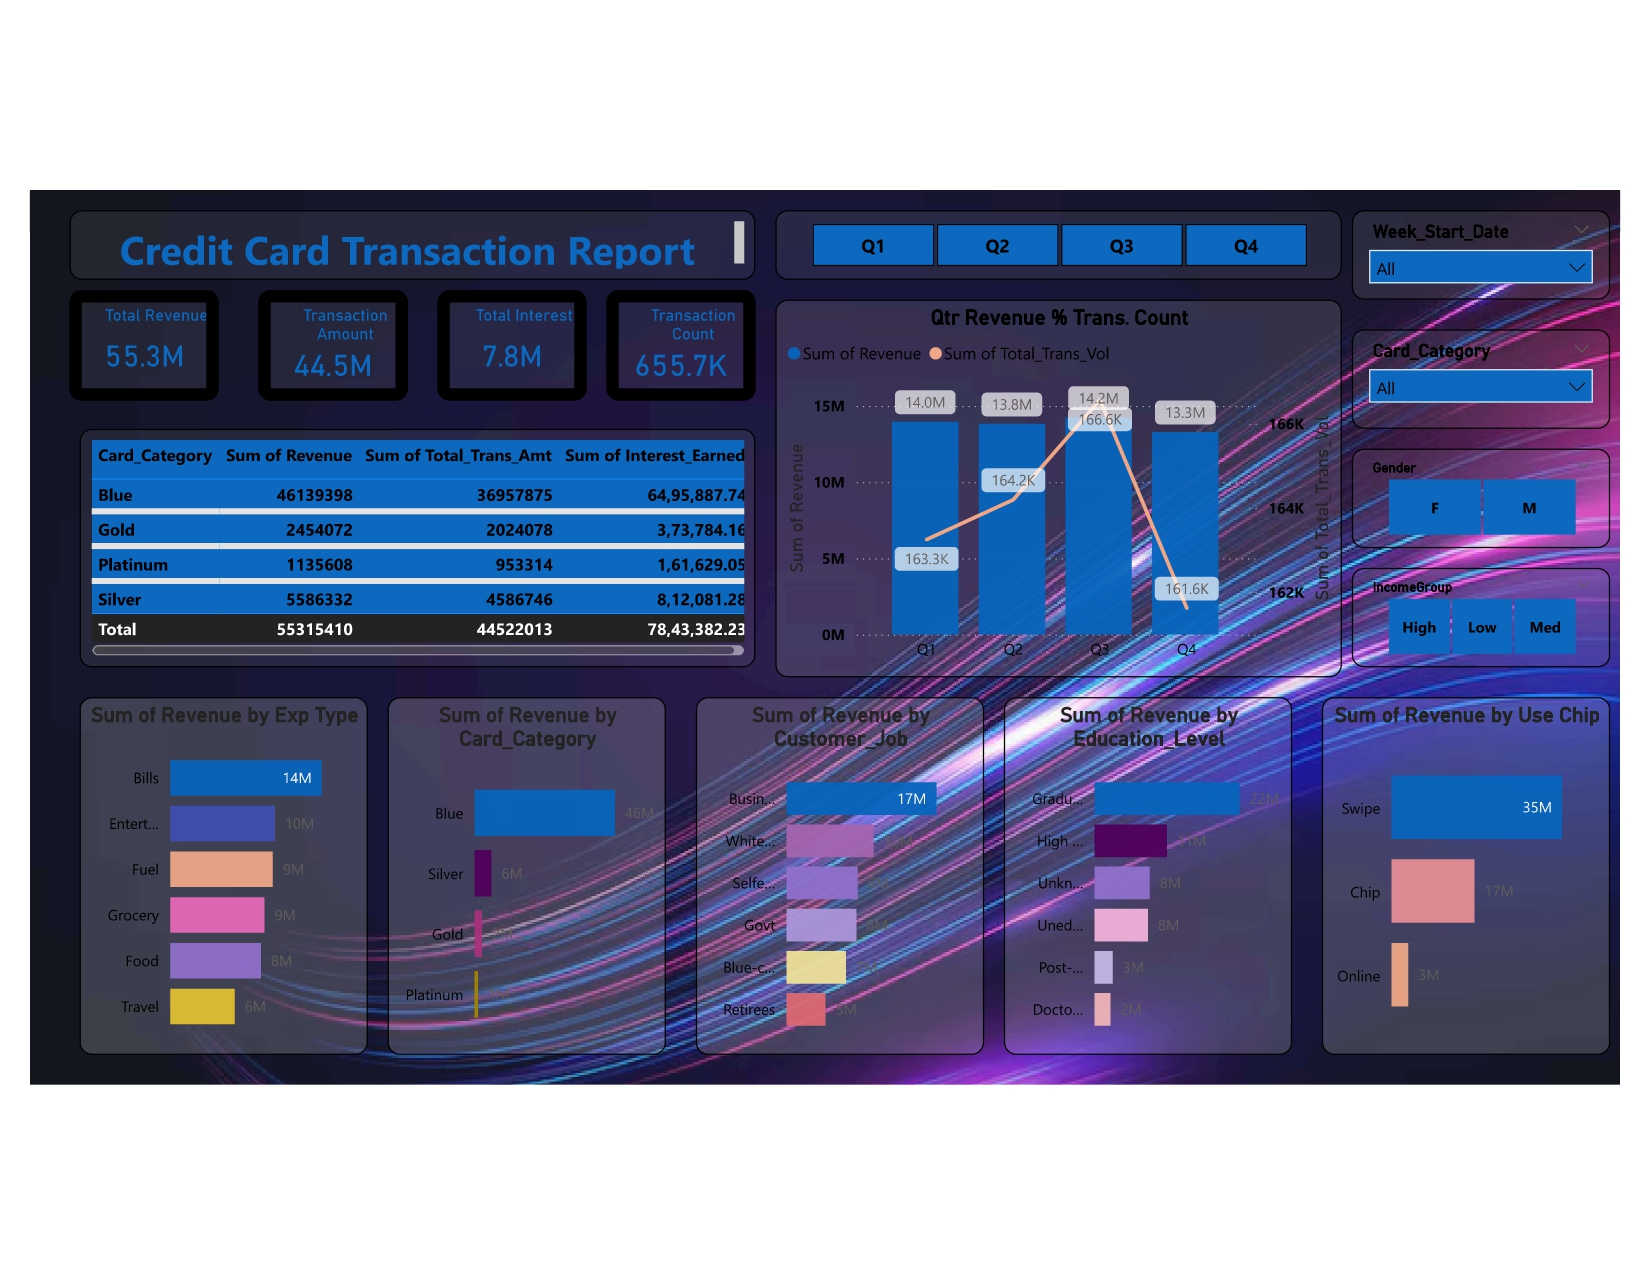

The dashboard page shown, as its layout file describes it:
{"tool":"powerbi","page":{"name":"CC Transaction","canvas":[1280,720],"ordinal":0},"visuals":[{"type":"textbox","box":[32,16,552,56],"z":0},{"type":"lineStackedColumnComboChart","title":"Qtr Revenue % Trans. Count","fields":{"Category":["credit_card.Qtr"],"Y":["Sum(credit_card.Revenue)"],"Y2":["Sum(credit_card.Total_Trans_Vol)"]},"box":[600,88,456,304],"z":1000},{"type":"barChart","fields":{"Y":["Sum(credit_card.Revenue)"],"Category":["credit_card.Exp Type"]},"box":[40,408,232,288],"z":2000},{"type":"barChart","fields":{"Y":["Sum(credit_card.Revenue)"],"Category":["customer.Education_Level"]},"box":[784,408,232,288],"z":3000},{"type":"barChart","fields":{"Y":["Sum(credit_card.Revenue)"],"Category":["customer.Customer_Job"]},"box":[536,408,232,288],"z":4000},{"type":"barChart","fields":{"Y":["Sum(credit_card.Revenue)"],"Category":["credit_card.Card_Category"]},"box":[288,408,224,288],"z":5000},{"type":"barChart","fields":{"Y":["Sum(credit_card.Revenue)"],"Category":["credit_card.Use Chip"]},"box":[1040,408,232,288],"z":6000},{"type":"tableEx","fields":{"Values":["credit_card.Card_Category","Sum(credit_card.Revenue)","Sum(credit_card.Total_Trans_Amt)","Sum(credit_card.Interest_Earned)"]},"box":[40,192,544,192],"z":7000},{"type":"card","title":"Total Revenue","fields":{"Values":["Sum(credit_card.Revenue)"]},"box":[32,80,120,90],"z":8000},{"type":"card","title":"Transaction Amount","fields":{"Values":["Sum(credit_card.Total_Trans_Amt)"]},"box":[184,80,120,90],"z":9000},{"type":"card","title":"Total Interest","fields":{"Values":["Sum(credit_card.Interest_Earned)"]},"box":[328,80,120,90],"z":10000},{"type":"card","title":"Transaction Count","fields":{"Values":["Sum(credit_card.Total_Trans_Vol)"]},"box":[464,80,120,90],"z":11000},{"type":"slicer","fields":{"Values":["credit_card.Week_Start_Date"]},"box":[1064,16,208,72],"z":12000},{"type":"slicer","fields":{"Values":["credit_card.Qtr"]},"box":[600,16,456,56],"z":13000},{"type":"slicer","fields":{"Values":["customer.Gender"]},"box":[1064,208,208,80],"z":14000},{"type":"slicer","fields":{"Values":["customer.IncomeGroup"]},"box":[1064,304,208,80],"z":15000},{"type":"slicer","fields":{"Values":["credit_card.Card_Category"]},"box":[1064,112,208,80],"z":16000}]}

Visuals, with their boxes on the page's 1280x720 design canvas (x1, y1, x2, y2). These are canvas units, not pixel positions in the 1650x1275 screenshot, which may show the page scaled, cropped or inside an application window:
textbox: box(32, 16, 584, 72)
"Qtr Revenue % Trans. Count" lineStackedColumnComboChart: box(600, 88, 1056, 392)
barChart - Sum(credit_card.Revenue) x credit_card.Exp Type: box(40, 408, 272, 696)
barChart - Sum(credit_card.Revenue) x customer.Education_Level: box(784, 408, 1016, 696)
barChart - Sum(credit_card.Revenue) x customer.Customer_Job: box(536, 408, 768, 696)
barChart - Sum(credit_card.Revenue) x credit_card.Card_Category: box(288, 408, 512, 696)
barChart - Sum(credit_card.Revenue) x credit_card.Use Chip: box(1040, 408, 1272, 696)
tableEx - credit_card.Card_Category x Sum(credit_card.Revenue): box(40, 192, 584, 384)
"Total Revenue" card: box(32, 80, 152, 170)
"Transaction Amount" card: box(184, 80, 304, 170)
"Total Interest" card: box(328, 80, 448, 170)
"Transaction Count" card: box(464, 80, 584, 170)
slicer - credit_card.Week_Start_Date: box(1064, 16, 1272, 88)
slicer - credit_card.Qtr: box(600, 16, 1056, 72)
slicer - customer.Gender: box(1064, 208, 1272, 288)
slicer - customer.IncomeGroup: box(1064, 304, 1272, 384)
slicer - credit_card.Card_Category: box(1064, 112, 1272, 192)
